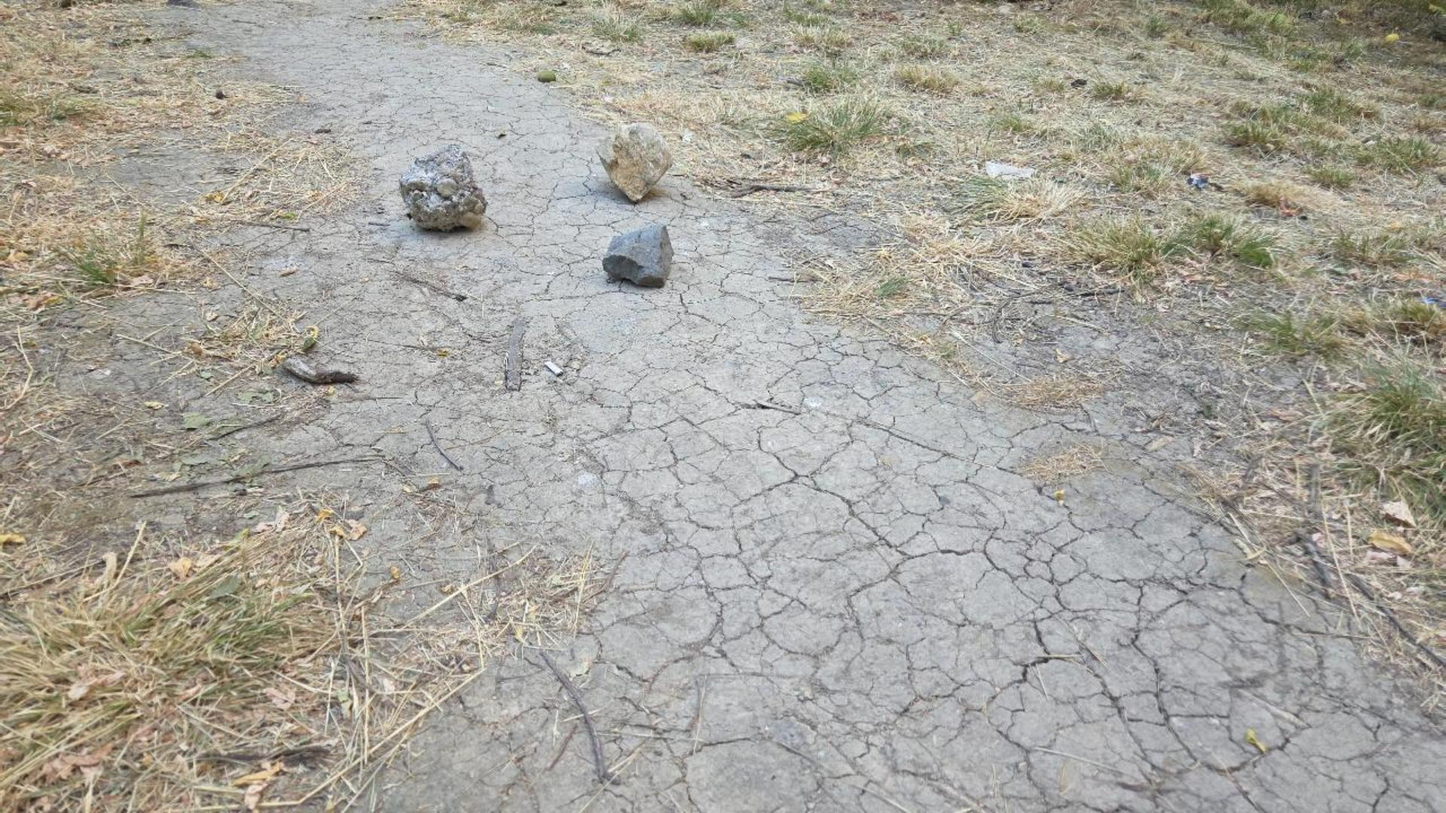rock: (400, 143, 486, 230), (599, 123, 672, 203), (602, 222, 672, 287)
